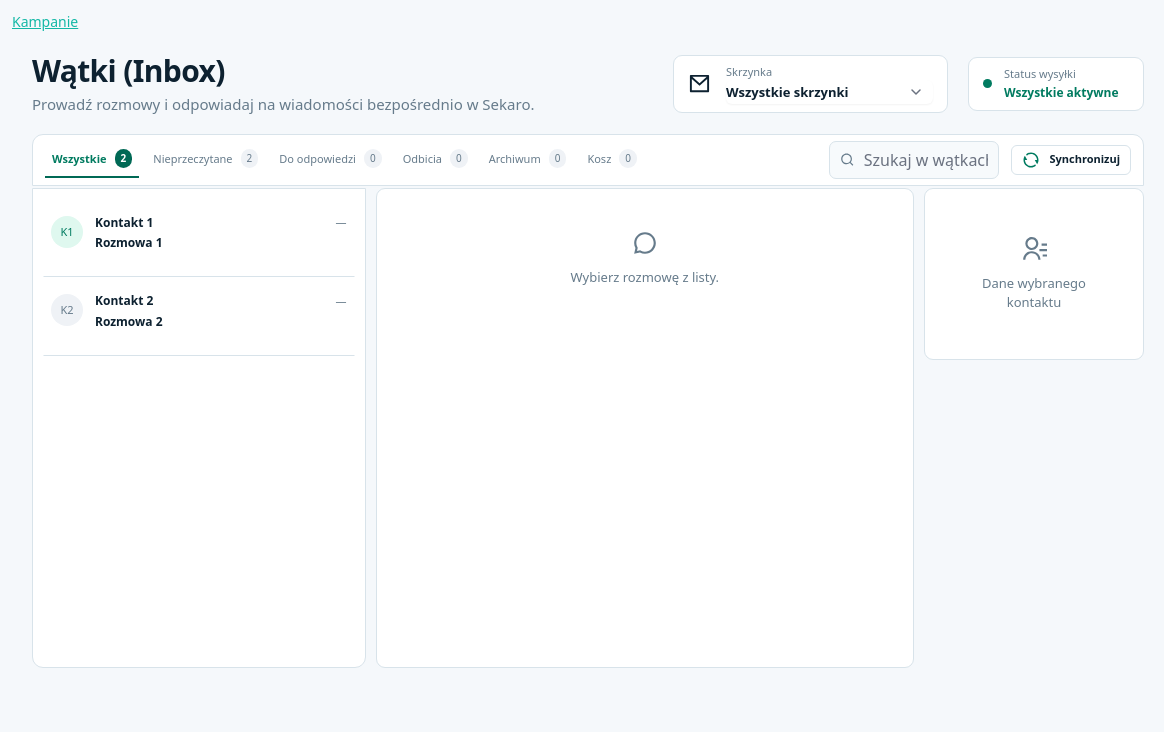
Test: retains the draft if sending fails and permits an explicit retry
The width and height of the screenshot is (1164, 732).
Click the button "K1 Kontakt 1 — Rozmowa 1" at (67, 232), box x1=43 y1=198 x2=355 y2=277
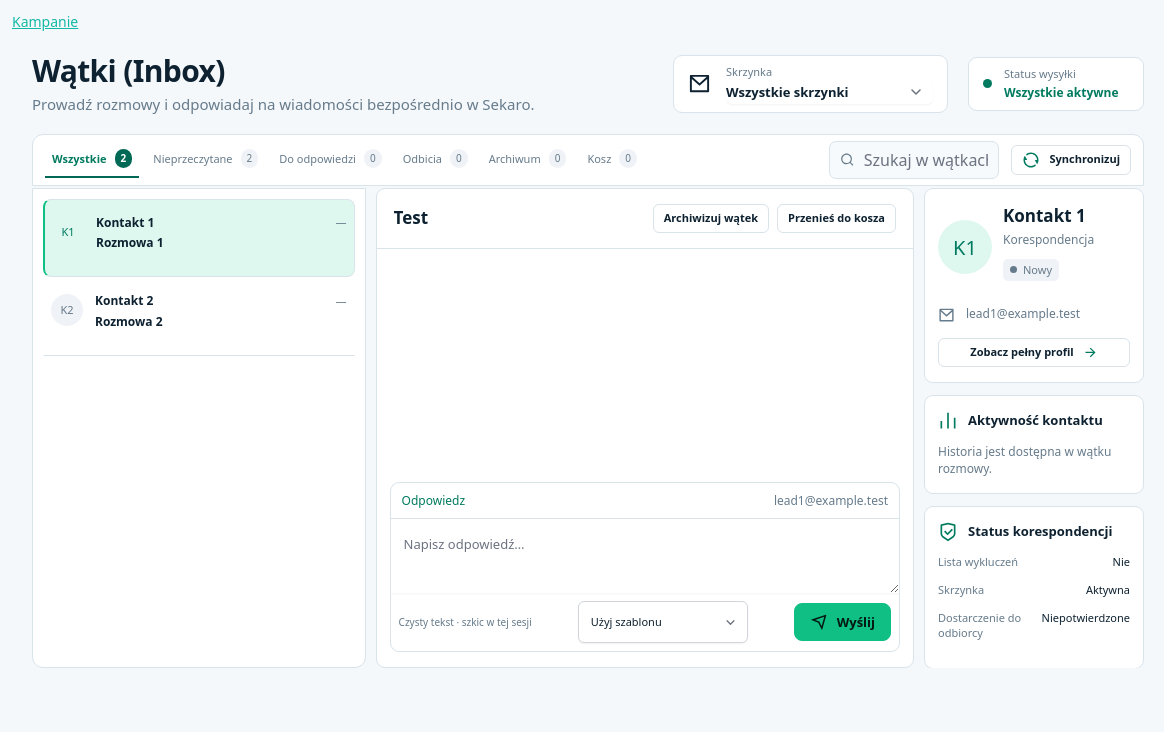
Type "Nie zgub wiadomości" into the text box named "Treść odpowiedzi" at (645, 556), box x1=391 y1=519 x2=899 y2=593
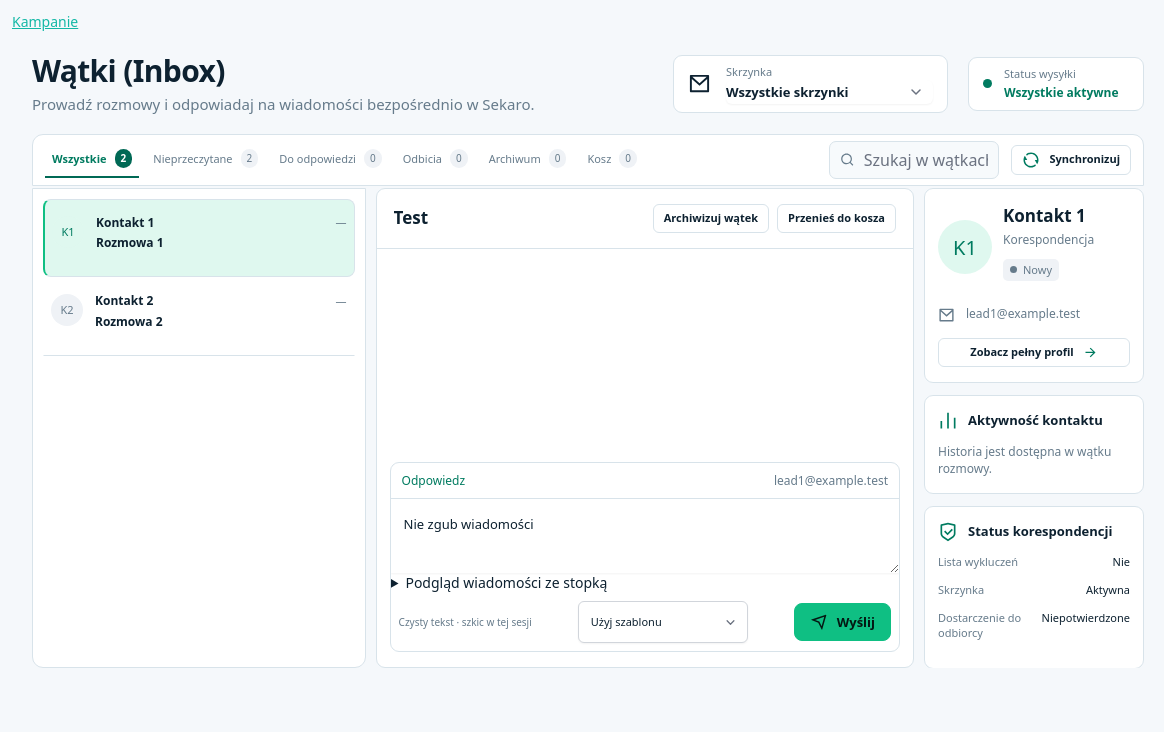
Click the button "Wyślij" at (842, 622), box x1=794 y1=603 x2=891 y2=641
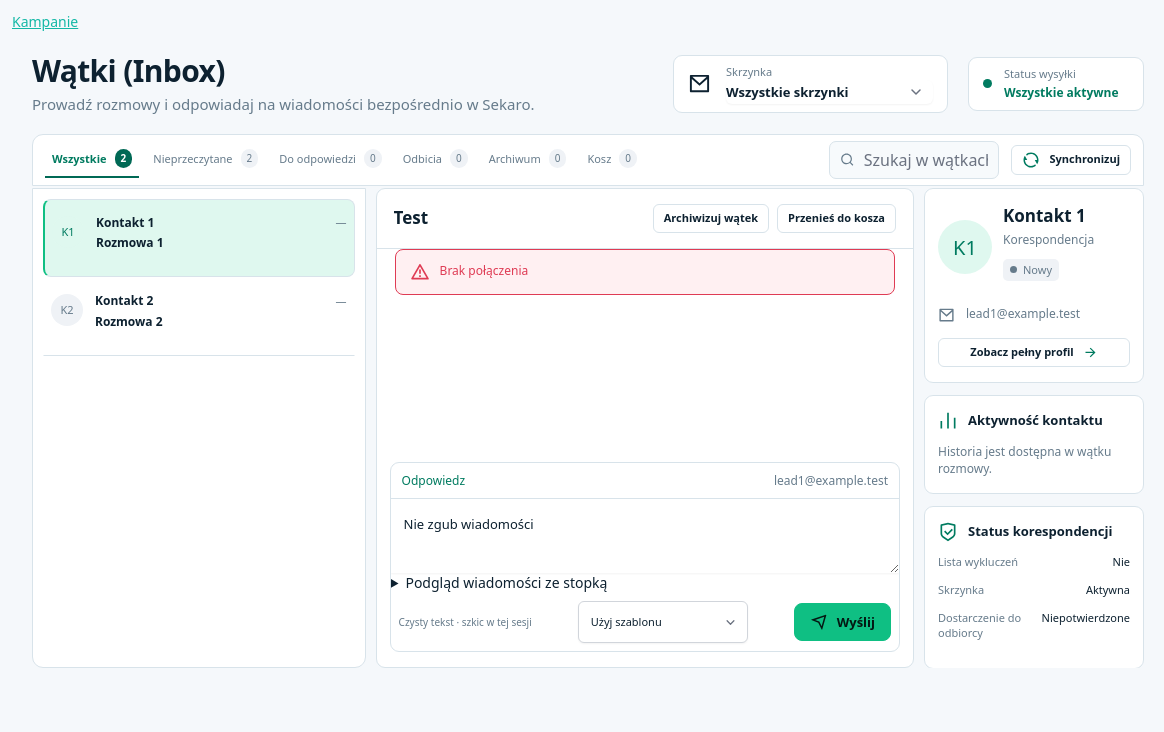
expect the button "Wyślij" is enabled: met, box x1=794 y1=603 x2=891 y2=641
expect the message "Brak połączenia" is shown: met, box x1=395 y1=248 x2=895 y2=294
